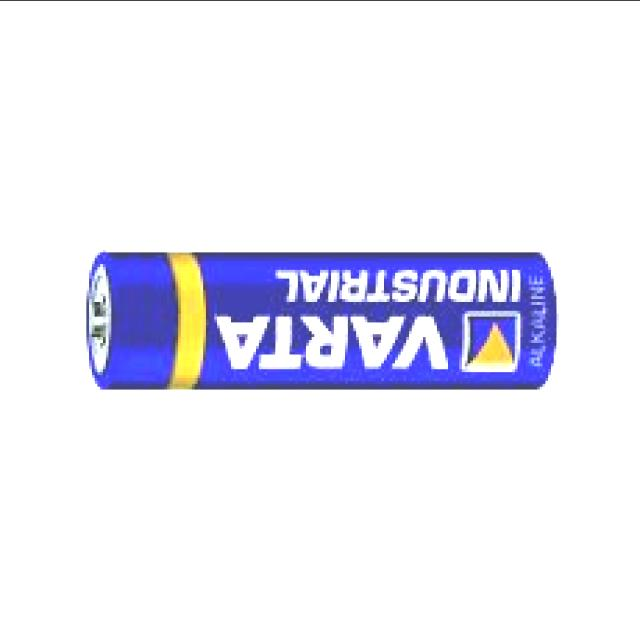AA: (84, 248, 556, 392)
